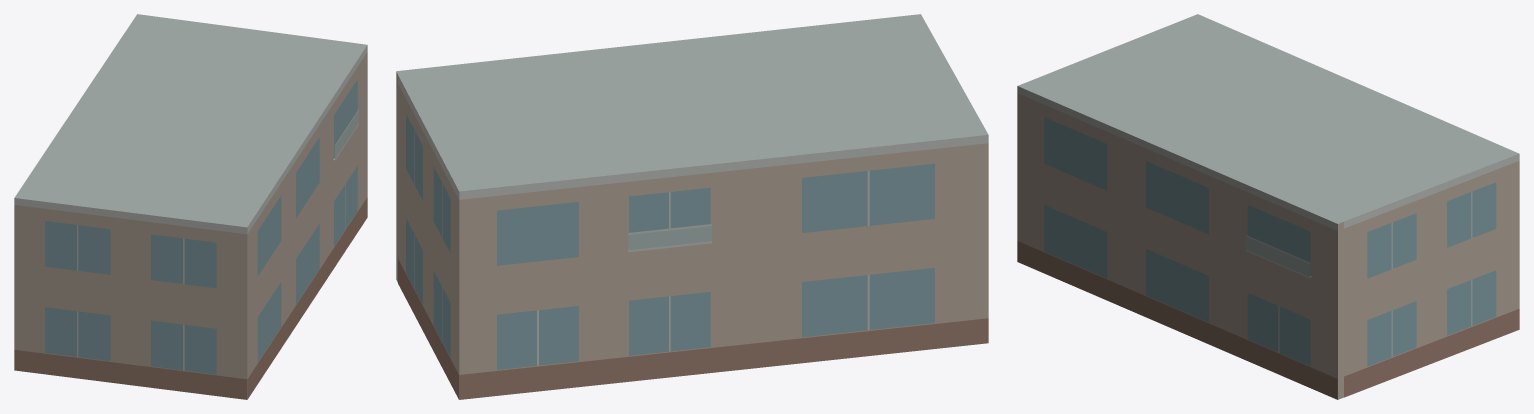
File: survey-upis-32655419.glb
3 views of the same model, side by side, from view 1: azimuth 30°, elevation 25°; view 2: azimuth 150°, elevation 25°; view 3: azimuth 270°, elevation 25° (orthographic). The views are drawn at different scales.
Visible parts, largest first — view 1: survey-upis-32655419.tmp; view 2: survey-upis-32655419.tmp; view 3: survey-upis-32655419.tmp.
Part boxes in pixels (bbox=[...]): survey-upis-32655419.tmp: bbox=[14, 14, 367, 399]; survey-upis-32655419.tmp: bbox=[396, 14, 988, 399]; survey-upis-32655419.tmp: bbox=[1017, 14, 1519, 399].
Size of the model in its own units: 15.62 by 6.1 by 15.79.
